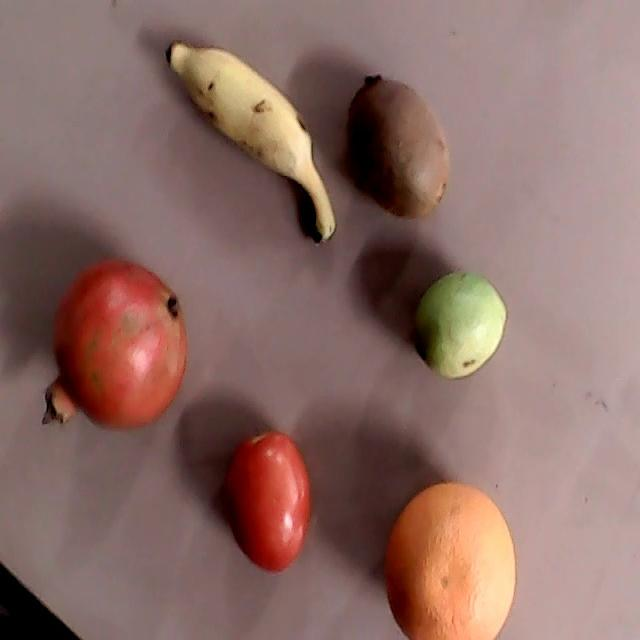kiwi: (345, 74, 449, 220)
lemon: (415, 270, 508, 379)
orange: (384, 482, 516, 639)
pomegranate: (42, 258, 187, 427)
tomato: (223, 430, 310, 575)
